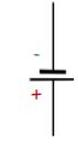Battery: (19, 37, 72, 114)
